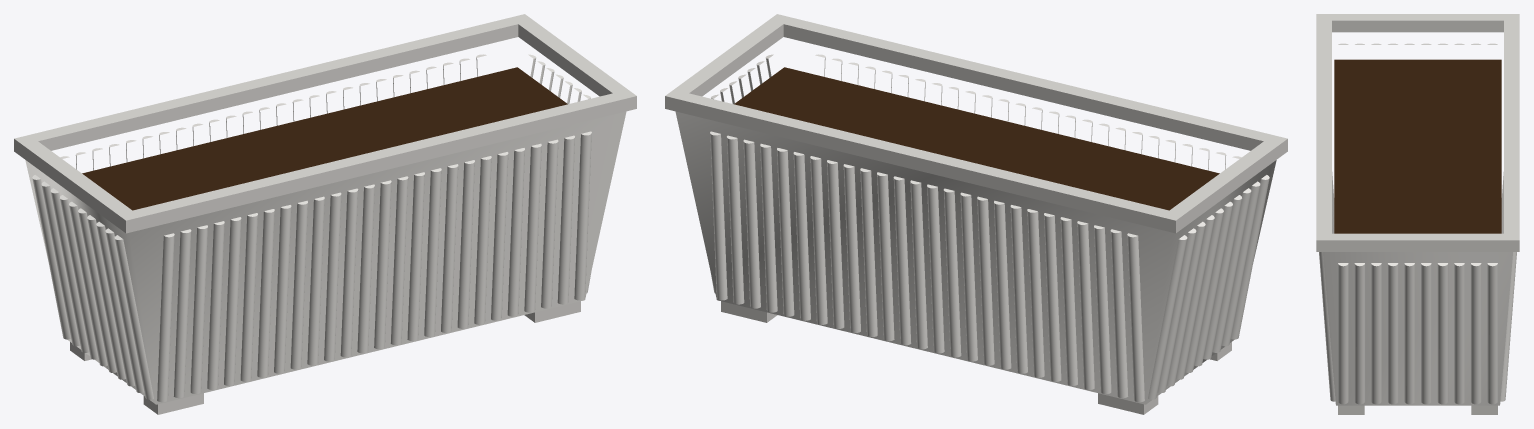
3 views of the same model, side by side, from view 1: azimuth 30°, elevation 25°; view 2: azimuth 150°, elevation 25°; view 3: azimuth 270°, elevation 25° (orthographic). The views are drawn at different scales.
Parts seen in each view (by area): view 1: shell, soil, rim-top-f, rim-top-b, rim-f, rim-b, rim-top-l, rim-top-r, flute-0-22, flute-0-25, flute-0-12, flute-0-3 (+36 smaller); view 2: shell, soil, rim-top-b, rim-top-f, rim-b, rim-f, rim-top-l, rim-top-r, flute-1-0, flute-1-3, flute-1-13, flute-1-19 (+36 smaller); view 3: soil, shell, rim-top-f, rim-top-b, rim-top-r, rim-top-l, flute-2-1, flute-2-3, flute-2-6, flute-2-8, flute-2-2, flute-2-7 (+10 smaller).
Boxes of the visible parts, x1=… form: shell: x1=25, y1=111, x2=626, y2=404; soil: x1=82, y1=67, x2=567, y2=210; rim-top-f: x1=117, y1=89, x2=636, y2=226; rim-top-b: x1=14, y1=14, x2=533, y2=150; rim-f: x1=117, y1=102, x2=636, y2=233; rim-b: x1=14, y1=30, x2=518, y2=157; rim-top-l: x1=22, y1=141, x2=132, y2=219; rim-top-r: x1=518, y1=20, x2=627, y2=94; flute-0-22: x1=524, y1=143, x2=541, y2=312; flute-0-25: x1=574, y1=131, x2=591, y2=300; flute-0-12: x1=357, y1=184, x2=374, y2=353; flute-0-3: x1=207, y1=221, x2=224, y2=389; shell: x1=675, y1=111, x2=1276, y2=404; soil: x1=734, y1=67, x2=1219, y2=210; rim-top-b: x1=665, y1=89, x2=1184, y2=226; rim-top-f: x1=768, y1=14, x2=1287, y2=150; rim-b: x1=665, y1=102, x2=1184, y2=233; rim-f: x1=783, y1=30, x2=1287, y2=157; rim-top-l: x1=1169, y1=141, x2=1279, y2=219; rim-top-r: x1=674, y1=20, x2=783, y2=94; flute-1-0: x1=710, y1=131, x2=727, y2=300; flute-1-3: x1=760, y1=143, x2=777, y2=312; flute-1-13: x1=927, y1=184, x2=944, y2=353; flute-1-19: x1=1027, y1=209, x2=1044, y2=377; soil: x1=1334, y1=59, x2=1501, y2=233; shell: x1=1323, y1=252, x2=1512, y2=405; rim-top-f: x1=1316, y1=14, x2=1331, y2=245; rim-top-b: x1=1504, y1=14, x2=1519, y2=245; rim-top-r: x1=1332, y1=233, x2=1503, y2=245; rim-top-l: x1=1332, y1=14, x2=1503, y2=25; flute-2-1: x1=1354, y1=263, x2=1365, y2=404; flute-2-3: x1=1387, y1=263, x2=1398, y2=404; flute-2-6: x1=1437, y1=263, x2=1448, y2=404; flute-2-8: x1=1470, y1=263, x2=1481, y2=404; flute-2-2: x1=1371, y1=263, x2=1381, y2=404; flute-2-7: x1=1454, y1=263, x2=1464, y2=404.
Bounding box in the file's own units: 1 × 0.4 × 0.38.
